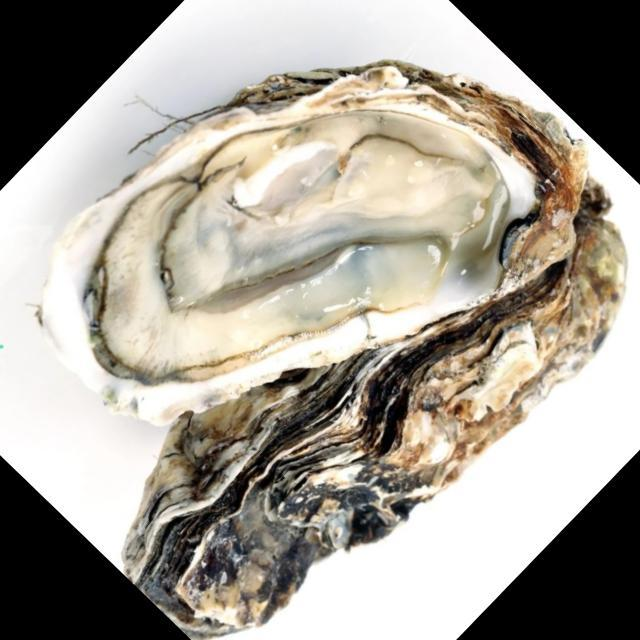Oyster-Closed: (126, 180, 625, 634)
Oyster-Open: (41, 62, 536, 424)
